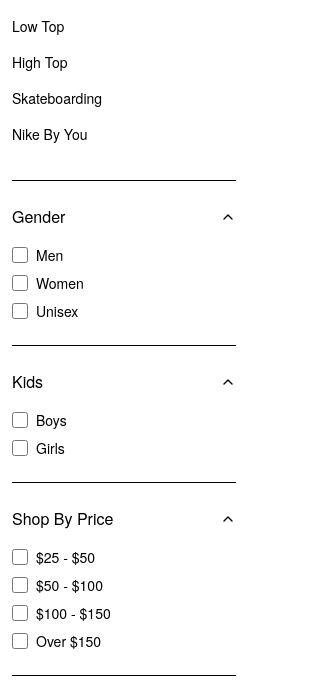
Scenario: FilterSidebar › toggles section visibility when section header is clicked
Expected: the checkbox labelled "Men" is shown, [12,247,28,263]
Click the button "Gender" at (124, 217), box [12,205,236,229]
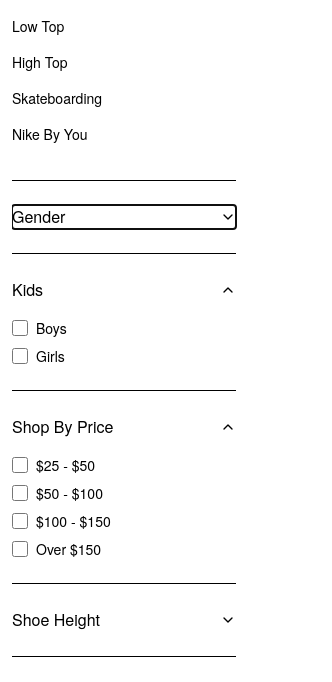
Expected: the text labelled "Men" is gone
